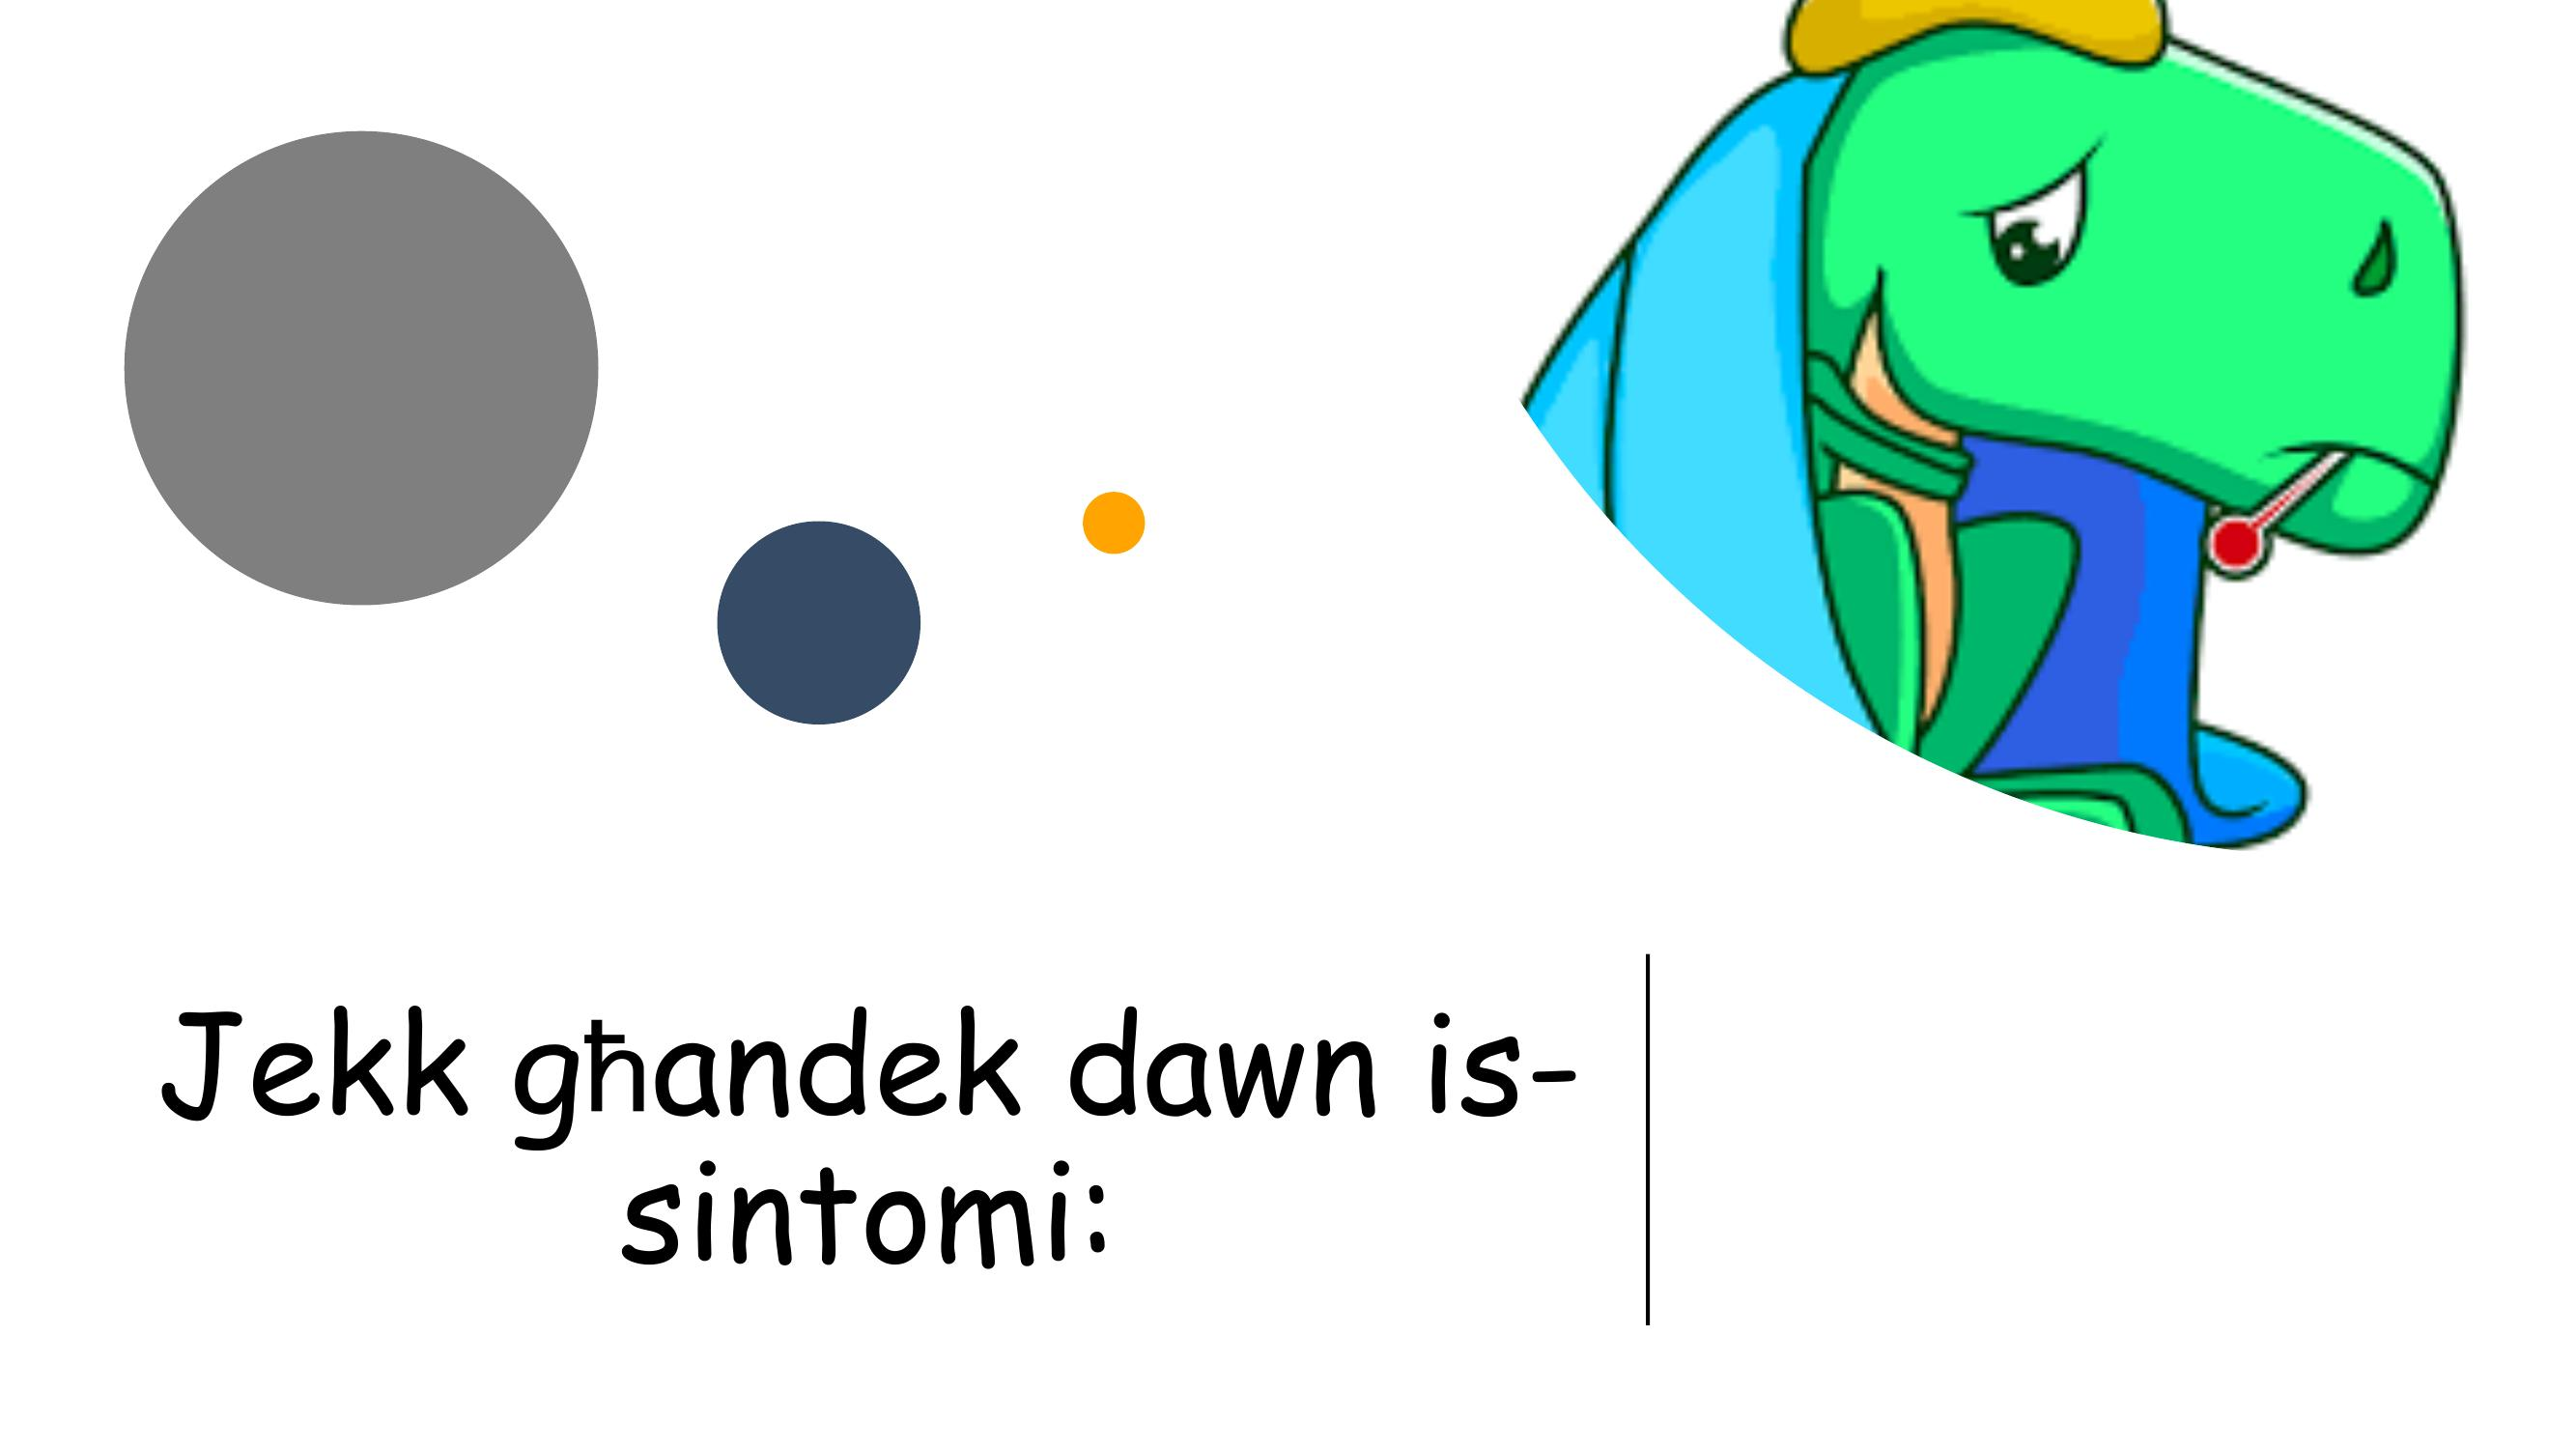text: (149, 959, 1606, 1309)
